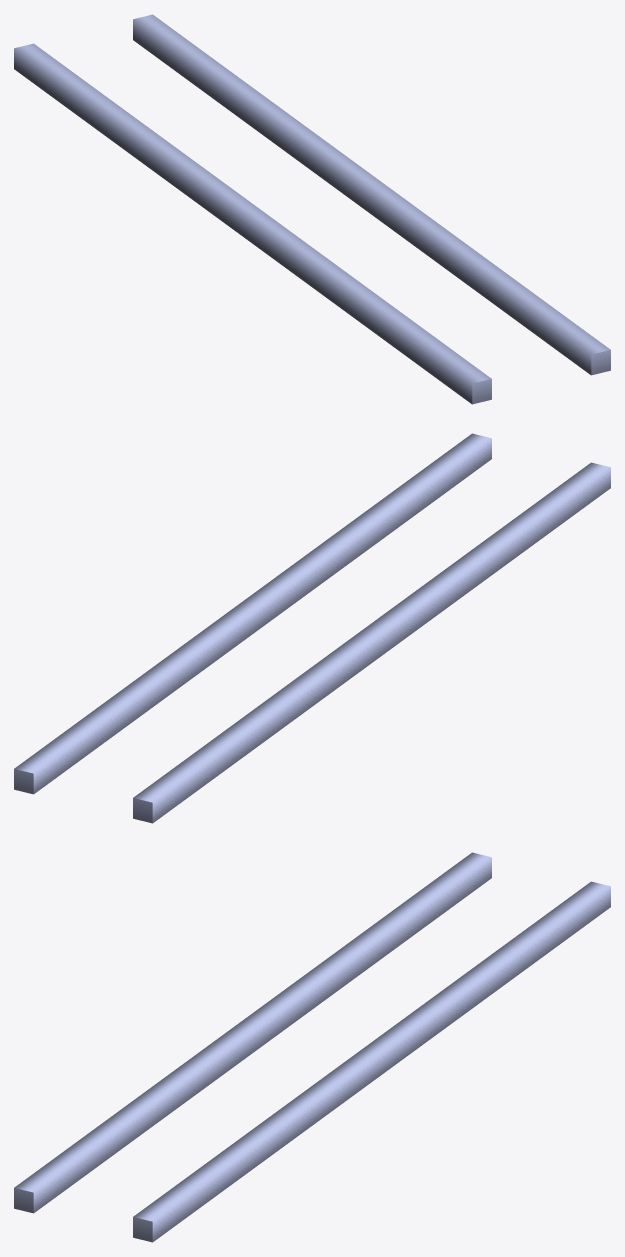
Rendered from railroad-rail-straight.glb.
3 renders of one model, top to bottom at view 1: azimuth 30°, elevation 25°; view 2: azimuth 150°, elevation 25°; view 3: azimuth 330°, elevation 25°, orthographic.
Parts seen in each view (by area): view 1: railroad-rail-straight; view 2: railroad-rail-straight; view 3: railroad-rail-straight.
Boxes of the visible parts, x1,y1,x2,y2 form: railroad-rail-straight: [14, 14, 610, 404]; railroad-rail-straight: [14, 433, 610, 823]; railroad-rail-straight: [14, 852, 610, 1242].
Bounding box in the file's own units: 0.6997 × 0.1001 × 4.
Materials: 1 (1 with a texture image).
